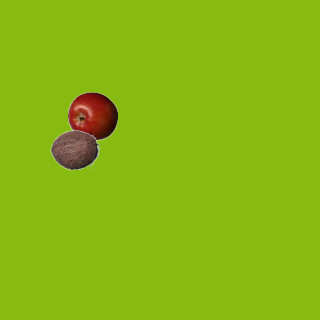Apple Braeburn: (67, 91, 117, 141)
Cocos: (49, 124, 99, 174)
